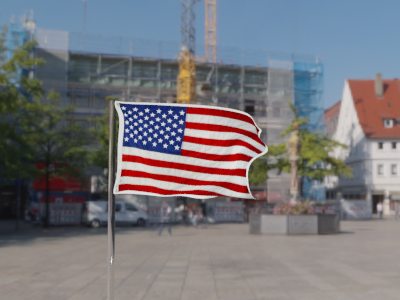America flag: (114, 100, 270, 202)
